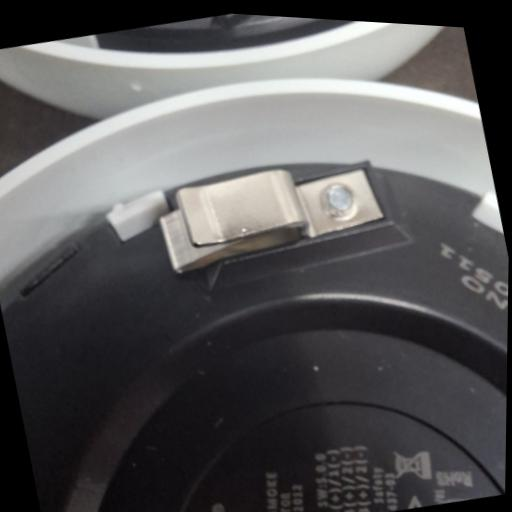yayli: (148, 137, 392, 288)
